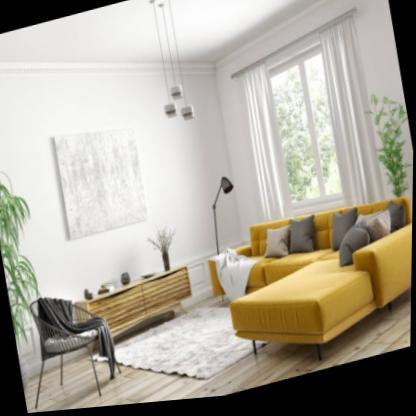Frame: (51, 128, 150, 243)
Sideboard: (76, 268, 193, 342)
Sofa: (204, 183, 414, 386)
Window: (263, 48, 342, 222)
